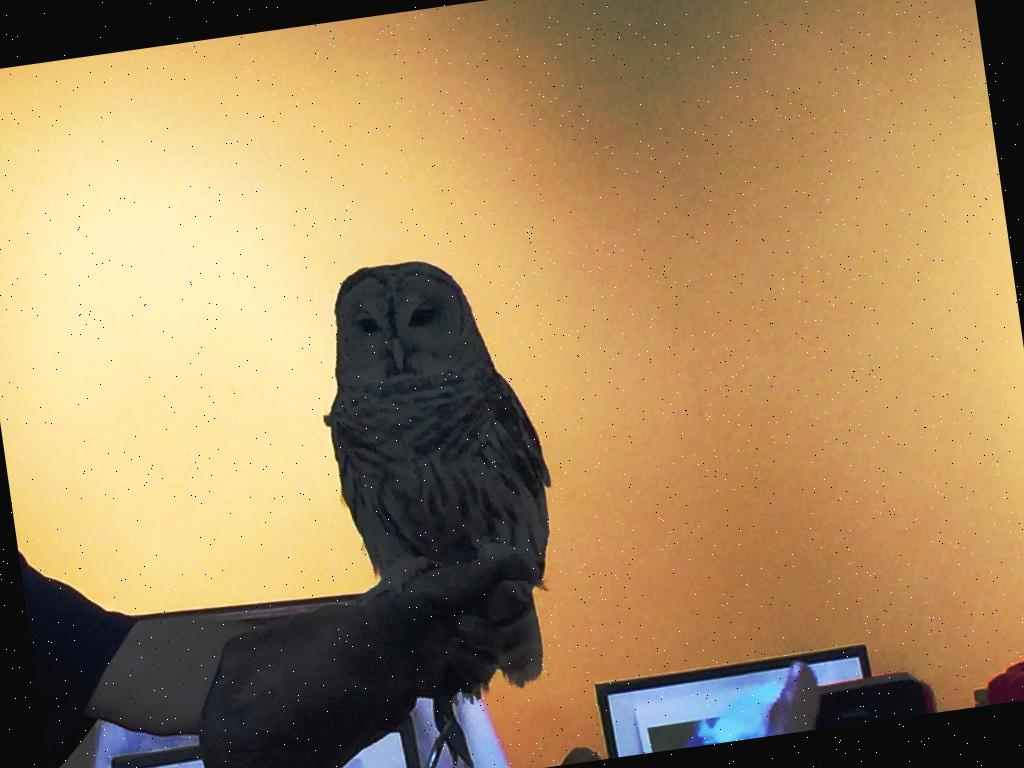Owl: (294, 243, 582, 733)
